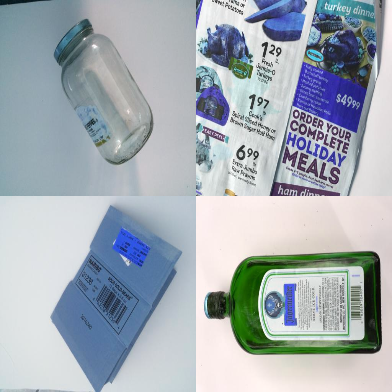cardboard: (48, 204, 181, 392)
glass: (202, 251, 382, 354), (54, 19, 154, 165)
paper: (196, 1, 387, 197)
